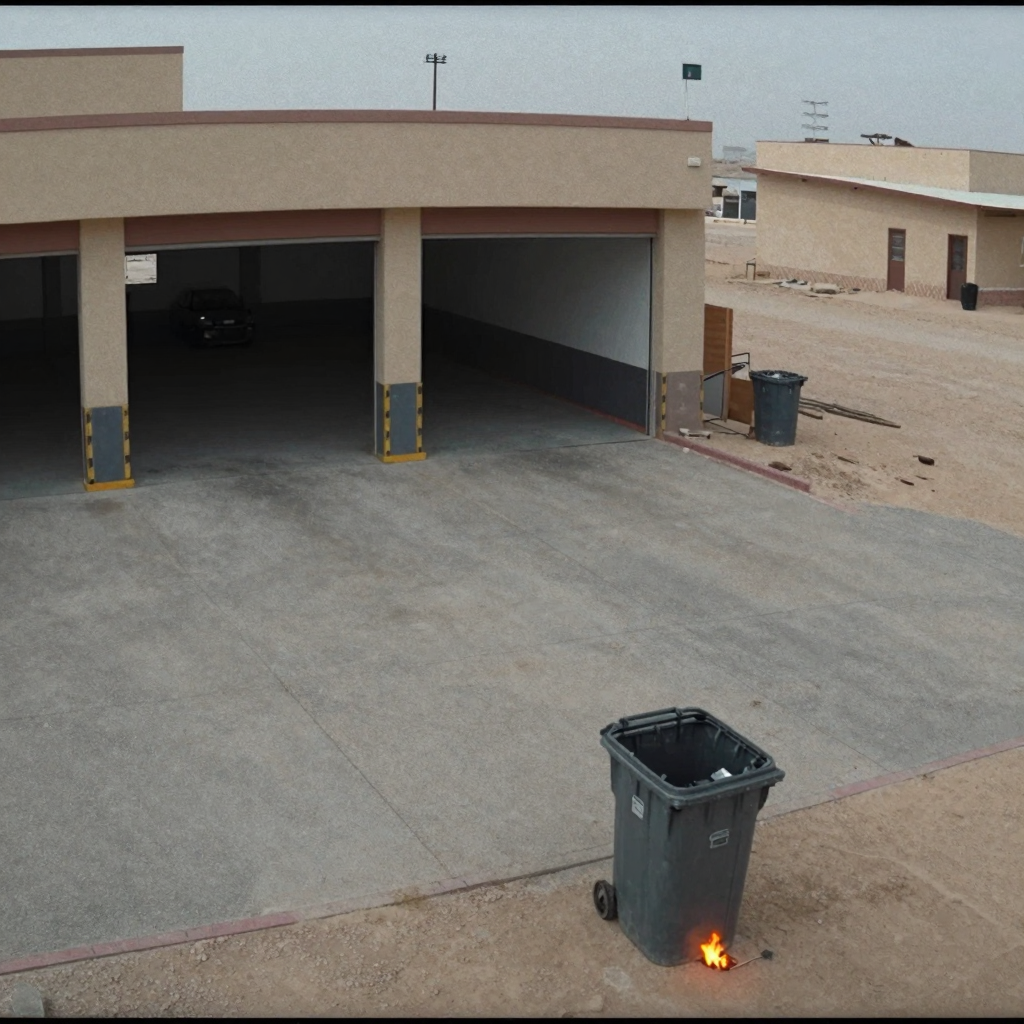Arson: (696, 921, 740, 972)
